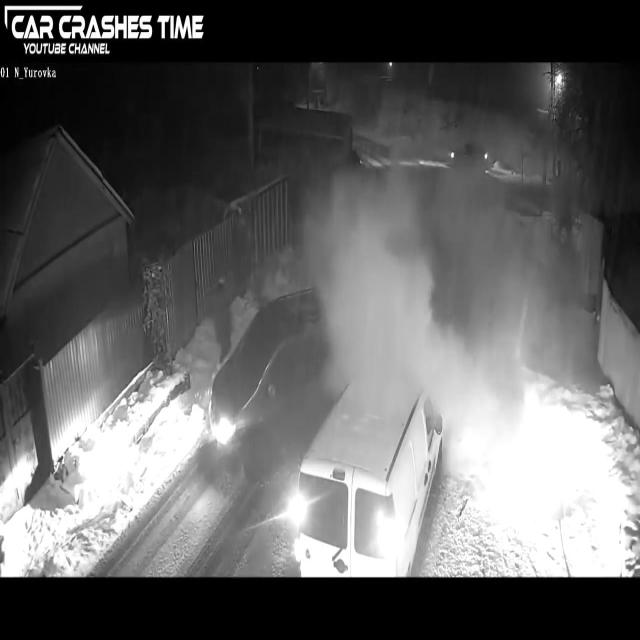accident: (205, 264, 449, 573)
